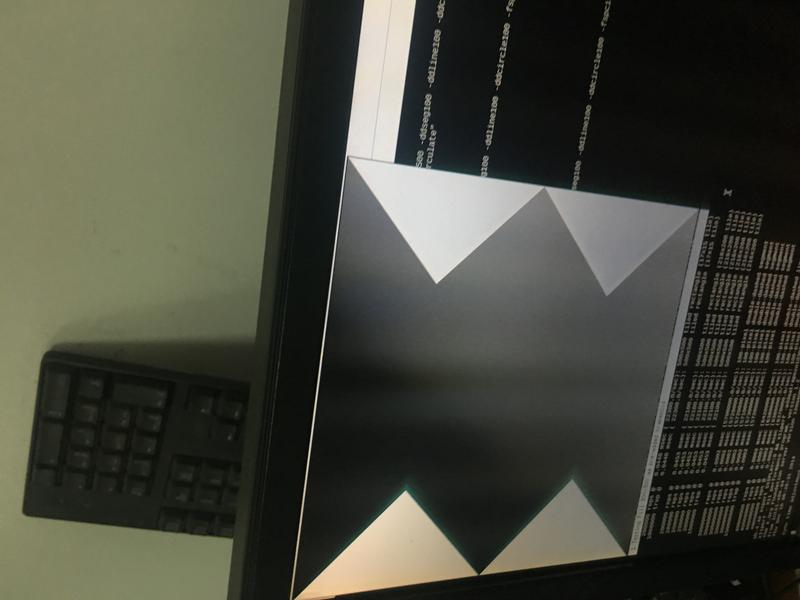xrandr_pass: (289, 140, 712, 598)
